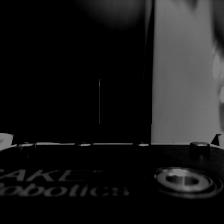Door Handle: (101, 77, 151, 126)
